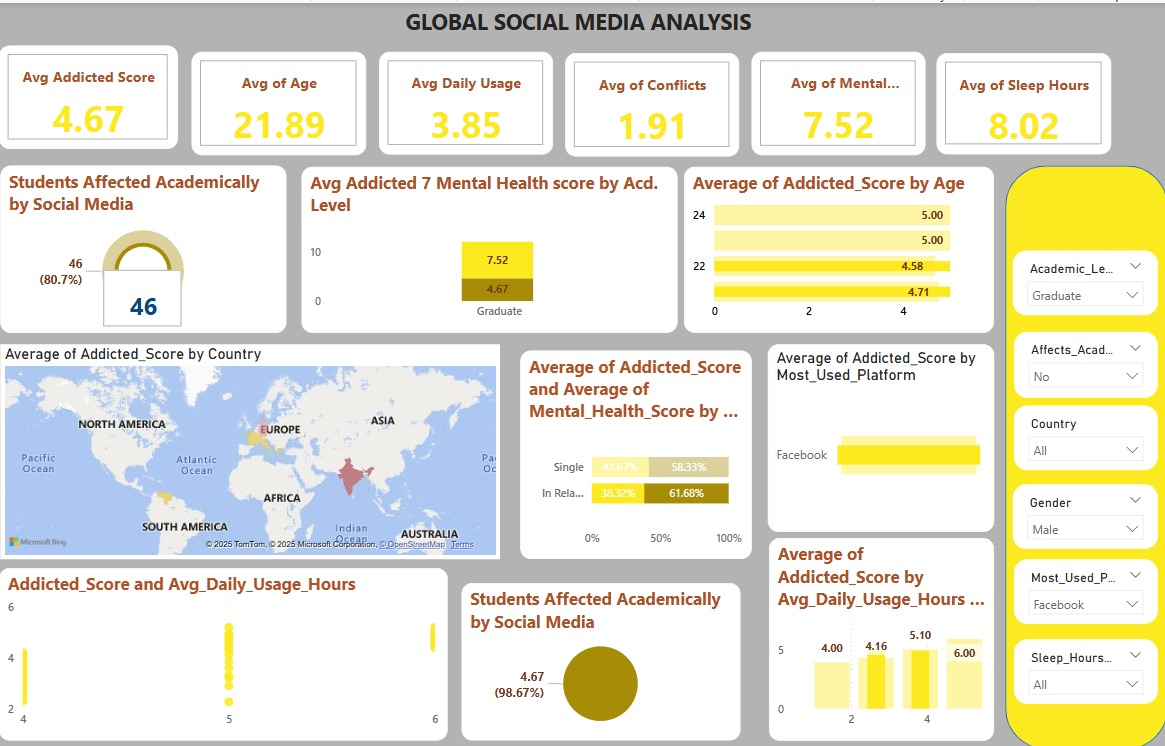

The page's visual inventory and layout, read from the dashboard file:
{"tool":"powerbi","page":{"name":"Global Analysis","canvas":[1300,830],"ordinal":0},"visuals":[{"type":"shape","box":[1119.6,180.8,180.8,649.5],"z":0},{"type":"cardVisual","fields":{"Data":["Avg(Students Social Media Addiction.Addicted_Score)"]},"box":[0,47.3,198.9,115.4],"z":1000},{"type":"cardVisual","fields":{"Data":["Avg(Students Social Media Addiction.Age)"]},"box":[214.2,54.2,194.7,115.4],"z":2000},{"type":"cardVisual","fields":{"Data":["Avg(Students Social Media Addiction.Avg_Daily_Usage_Hours)"]},"box":[422.8,54.2,193.3,114],"z":3000},{"type":"cardVisual","fields":{"Data":["Avg(Students Social Media Addiction.Conflicts_Over_Social_Media)"]},"box":[630,55.6,193.3,115.4],"z":4000},{"type":"cardVisual","fields":{"Data":["Avg(Students Social Media Addiction.Mental_Health_Score)"]},"box":[837.2,54.2,193.3,115.4],"z":5000},{"type":"cardVisual","fields":{"Data":["Avg(Students Social Media Addiction.Sleep_Hours_Per_Night)"]},"box":[1043.1,55.6,194.7,112.7],"z":6000},{"type":"columnChart","title":"Avg Addicted 7 Mental Health score by Acd. Level","fields":{"Category":["Students Social Media Addiction.Academic_Level"],"Y":["Avg(Students Social Media Addiction.Addicted_Score)","Avg(Students Social Media Addiction.Mental_Health_Score)"]},"box":[336.6,182.2,418.6,185],"z":7000},{"type":"donutChart","title":"Students Affected Academically by Social Media","fields":{"Category":["Students Social Media Addiction.Affects_Academic_Performance"],"Y":["CountNonNull(Students Social Media Addiction.Student_ID)"]},"box":[1.4,180.8,318.5,186.4],"z":8000},{"type":"cardVisual","fields":{"Data":["Count(Students Social Media Addiction.Student_ID)"]},"box":[100.1,292.1,97.4,75.1],"z":9000},{"type":"clusteredBarChart","fields":{"Category":["Students Social Media Addiction.Age"],"Y":["Avg(Students Social Media Addiction.Addicted_Score)"]},"box":[762.1,182.2,344.9,185],"z":10000},{"type":"slicer","fields":{"Values":["Students Social Media Addiction.Academic_Level"]},"box":[1127.9,275.4,161.3,72.3],"z":11000},{"type":"slicer","fields":{"Values":["Students Social Media Addiction.Affects_Academic_Performance"]},"box":[1129.3,365.8,159.9,73.7],"z":12000},{"type":"slicer","fields":{"Values":["Students Social Media Addiction.Country"]},"box":[1129.3,447.8,159.9,72.3],"z":13000},{"type":"slicer","fields":{"Values":["Students Social Media Addiction.Gender"]},"box":[1127.9,535.4,161.3,72.3],"z":14000},{"type":"slicer","fields":{"Values":["Students Social Media Addiction.Most_Used_Platform"]},"box":[1129.3,618.9,159.9,72.3],"z":15000},{"type":"filledMap","fields":{"Category":["Students Social Media Addiction.Country"]},"box":[1.4,379.7,556.3,239.2],"z":16000},{"type":"pieChart","title":"Students Affected Academically by Social Media","fields":{"Category":["Students Social Media Addiction.Gender"],"Y":["Avg(Students Social Media Addiction.Addicted_Score)"]},"box":[514.6,645.3,310.1,175.2],"z":17000},{"type":"funnel","fields":{"Category":["Students Social Media Addiction.Most_Used_Platform"],"Y":["Avg(Students Social Media Addiction.Addicted_Score)"]},"box":[855.3,379.7,251.7,208.6],"z":18000},{"type":"hundredPercentStackedBarChart","fields":{"Category":["Students Social Media Addiction.Relationship_Status"],"Y":["Avg(Students Social Media Addiction.Addicted_Score)","Avg(Students Social Media Addiction.Mental_Health_Score)"]},"box":[579.9,386.6,257.3,232.3],"z":19000},{"type":"lineStackedColumnComboChart","fields":{"Y":["Avg(Students Social Media Addiction.Addicted_Score)"],"Category":["Students Social Media Addiction.Avg_Daily_Usage_Hours (bins)"]},"box":[856.7,595.2,250.3,225.3],"z":20000},{"type":"scatterChart","fields":{"X":["Students Social Media Addiction.Addicted_Score"],"Y":["Students Social Media Addiction.Avg_Daily_Usage_Hours"]},"box":[0,628.6,499.3,191.9],"z":21000},{"type":"textbox","box":[0,0,1289.2,47.3],"z":22000},{"type":"slicer","fields":{"Values":["Students Social Media Addiction.Sleep_Hours_Per_Night"]},"box":[1129.3,707.9,159.9,72.3],"z":23000}]}

Visuals, with their boxes in screenshot pixels (x1, y1, x2, y2), scaled from the page's 1300x830 canvas onto the 1165x746 screenshot:
shape: {"left": 1003, "top": 163, "right": 1164, "bottom": 745}
cardVisual - Avg(Students Social Media Addiction.Addicted_Score): {"left": 0, "top": 43, "right": 178, "bottom": 146}
cardVisual - Avg(Students Social Media Addiction.Age): {"left": 192, "top": 49, "right": 366, "bottom": 152}
cardVisual - Avg(Students Social Media Addiction.Avg_Daily_Usage_Hours): {"left": 379, "top": 49, "right": 552, "bottom": 151}
cardVisual - Avg(Students Social Media Addiction.Conflicts_Over_Social_Media): {"left": 565, "top": 50, "right": 738, "bottom": 154}
cardVisual - Avg(Students Social Media Addiction.Mental_Health_Score): {"left": 750, "top": 49, "right": 923, "bottom": 152}
cardVisual - Avg(Students Social Media Addiction.Sleep_Hours_Per_Night): {"left": 935, "top": 50, "right": 1109, "bottom": 151}
"Avg Addicted 7 Mental Health score by Acd. Level" columnChart: {"left": 302, "top": 164, "right": 677, "bottom": 330}
"Students Affected Academically by Social Media" donutChart: {"left": 1, "top": 163, "right": 287, "bottom": 330}
cardVisual - Count(Students Social Media Addiction.Student_ID): {"left": 90, "top": 263, "right": 177, "bottom": 330}
clusteredBarChart - Students Social Media Addiction.Age x Avg(Students Social Media Addiction.Addicted_Score): {"left": 683, "top": 164, "right": 992, "bottom": 330}
slicer - Students Social Media Addiction.Academic_Level: {"left": 1011, "top": 248, "right": 1155, "bottom": 313}
slicer - Students Social Media Addiction.Affects_Academic_Performance: {"left": 1012, "top": 329, "right": 1155, "bottom": 395}
slicer - Students Social Media Addiction.Country: {"left": 1012, "top": 402, "right": 1155, "bottom": 467}
slicer - Students Social Media Addiction.Gender: {"left": 1011, "top": 481, "right": 1155, "bottom": 546}
slicer - Students Social Media Addiction.Most_Used_Platform: {"left": 1012, "top": 556, "right": 1155, "bottom": 621}
filledMap - Students Social Media Addiction.Country: {"left": 1, "top": 341, "right": 500, "bottom": 556}
"Students Affected Academically by Social Media" pieChart: {"left": 461, "top": 580, "right": 739, "bottom": 737}
funnel - Students Social Media Addiction.Most_Used_Platform x Avg(Students Social Media Addiction.Addicted_Score): {"left": 766, "top": 341, "right": 992, "bottom": 529}
hundredPercentStackedBarChart - Students Social Media Addiction.Relationship_Status x Avg(Students Social Media Addiction.Addicted_Score): {"left": 520, "top": 347, "right": 750, "bottom": 556}
lineStackedColumnComboChart - Avg(Students Social Media Addiction.Addicted_Score) x Students Social Media Addiction.Avg_Daily_Usage_Hours (bins): {"left": 768, "top": 535, "right": 992, "bottom": 737}
scatterChart - Students Social Media Addiction.Addicted_Score x Students Social Media Addiction.Avg_Daily_Usage_Hours: {"left": 0, "top": 565, "right": 447, "bottom": 737}
textbox: {"left": 0, "top": 0, "right": 1155, "bottom": 43}
slicer - Students Social Media Addiction.Sleep_Hours_Per_Night: {"left": 1012, "top": 636, "right": 1155, "bottom": 701}
